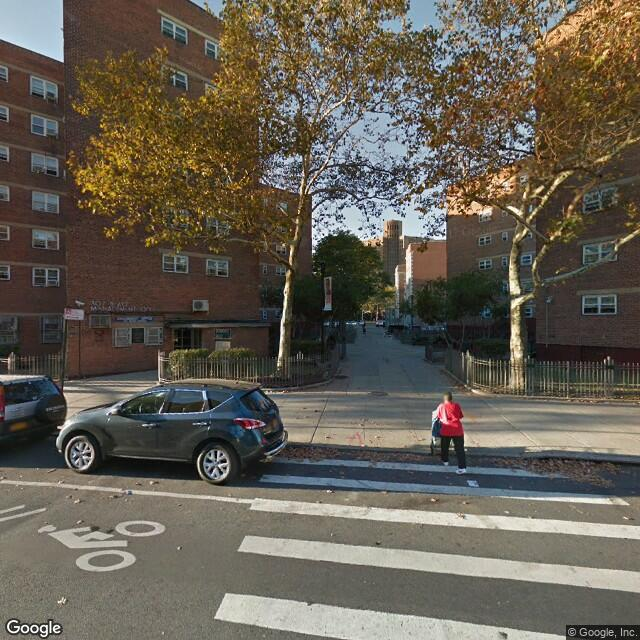litter: (465, 475, 480, 489), (45, 465, 57, 474)
